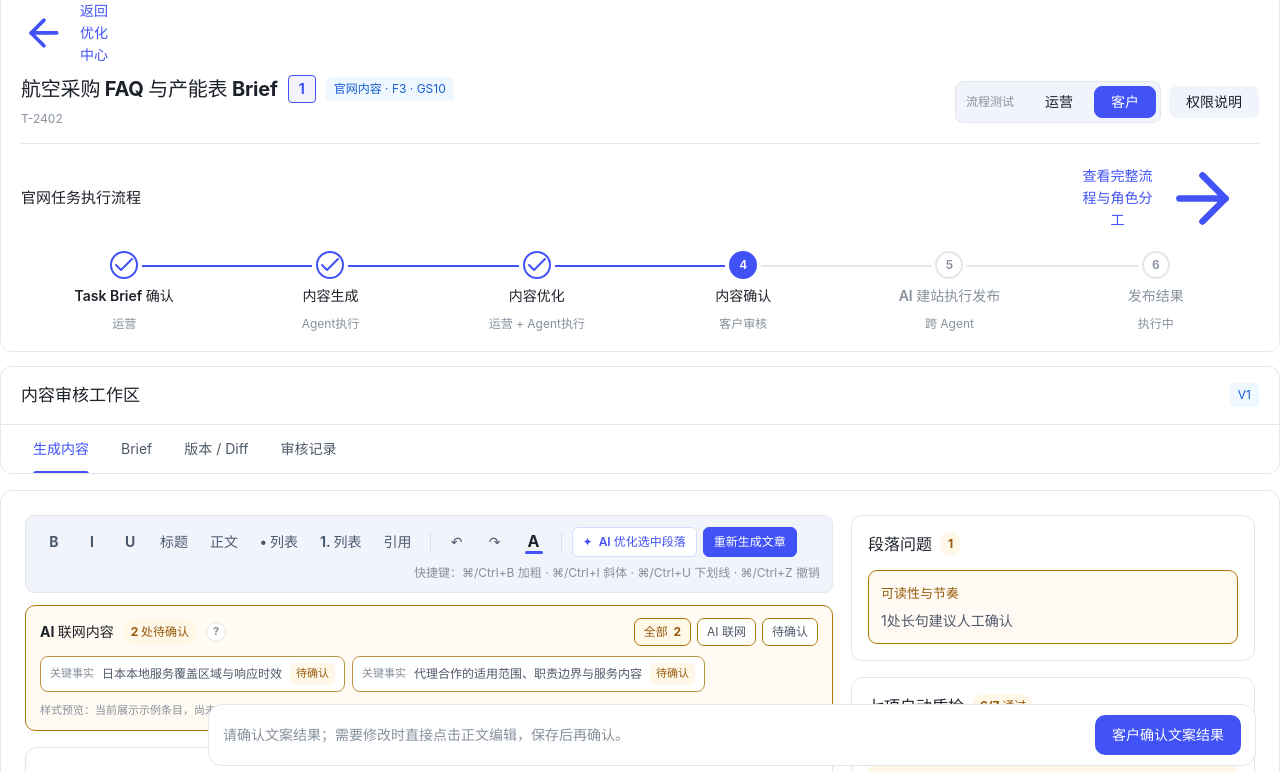
Test: task workspace task confirmation › allows the current customer reviewer to change the first-step web supplement choice from the Brief tab
Click the button "Brief" at (137, 449), box [109, 425, 164, 473]
(page scrolled)
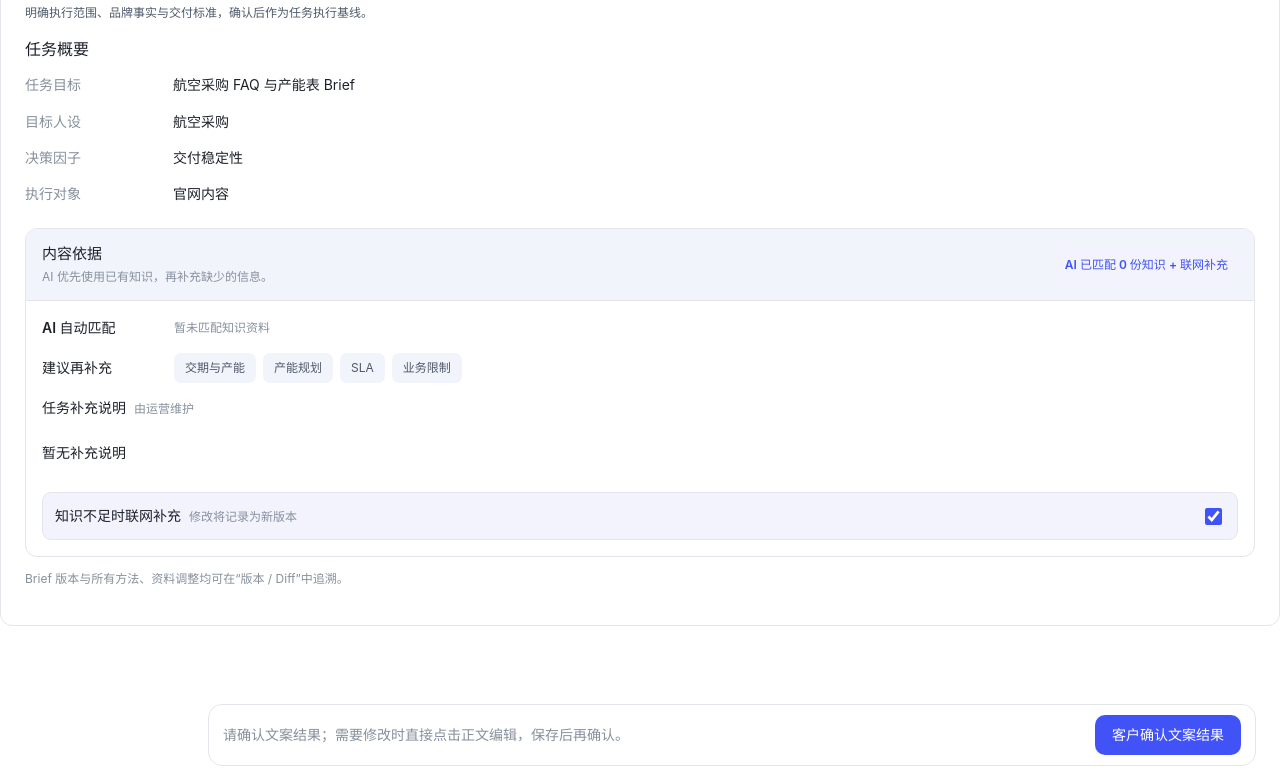
Expected: the checkbox labelled "知识不足时联网补充 修改将记录为新版本" is enabled
Click the checkbox labelled "知识不足时联网补充 修改将记录为新版本" at (1214, 516), box [1205, 508, 1222, 524]
(page scrolled)
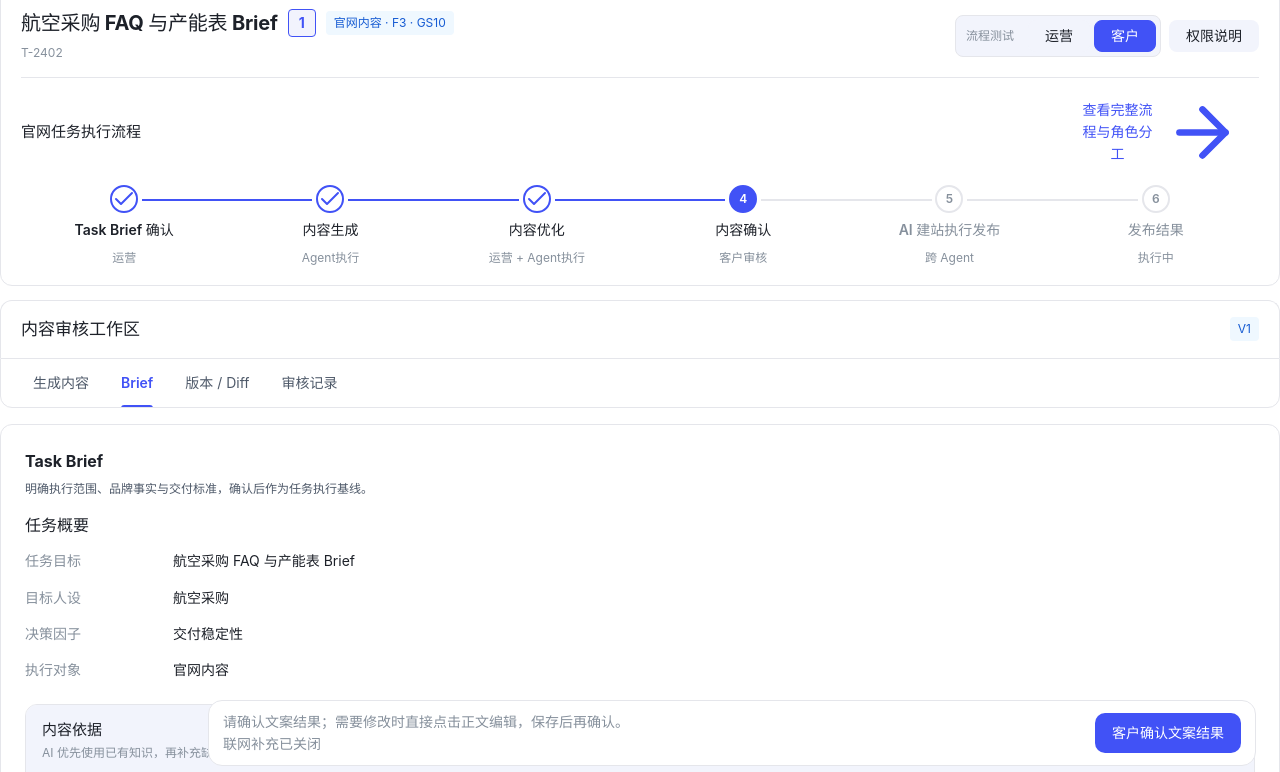
Expected: the message "联网补充已关闭" is shown, [223, 735, 321, 752]
Click the button "生成内容" at (61, 383), box [21, 359, 101, 407]
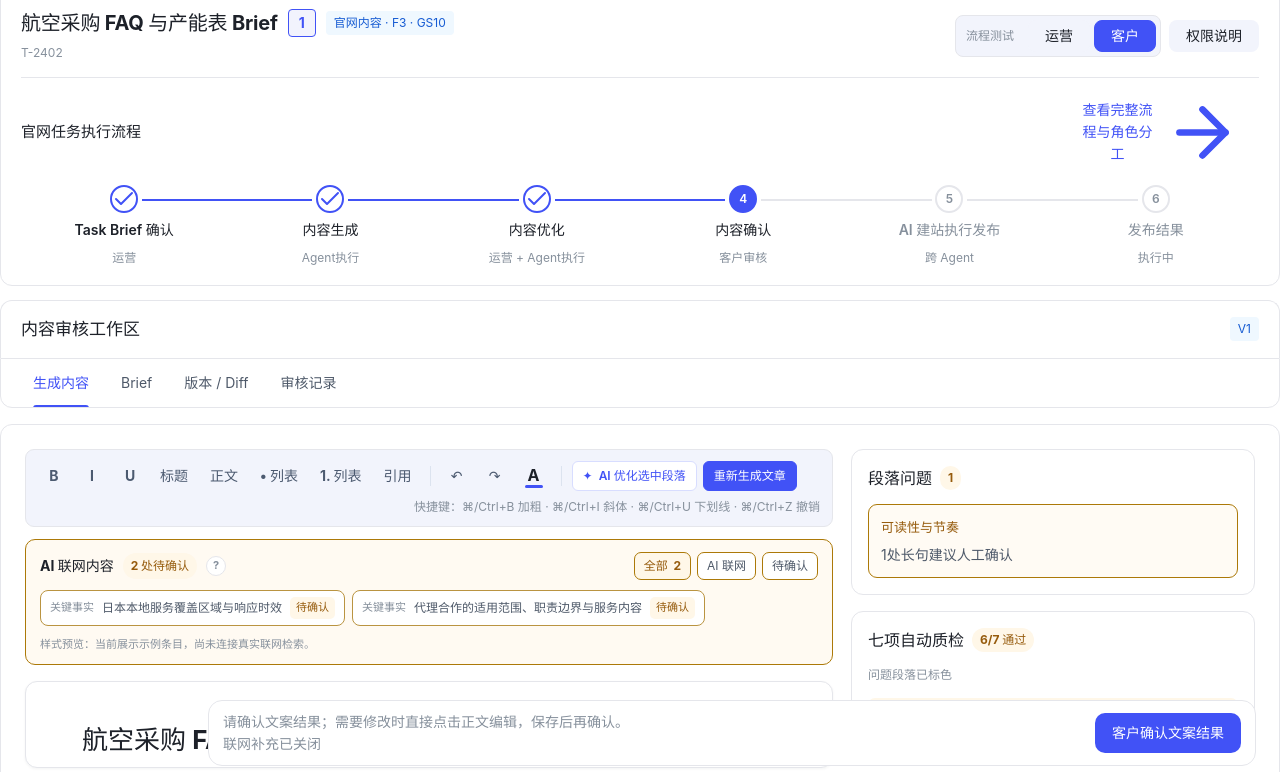
Expected: the element with test id "internet-supplement" is shown, [25, 539, 833, 665]
